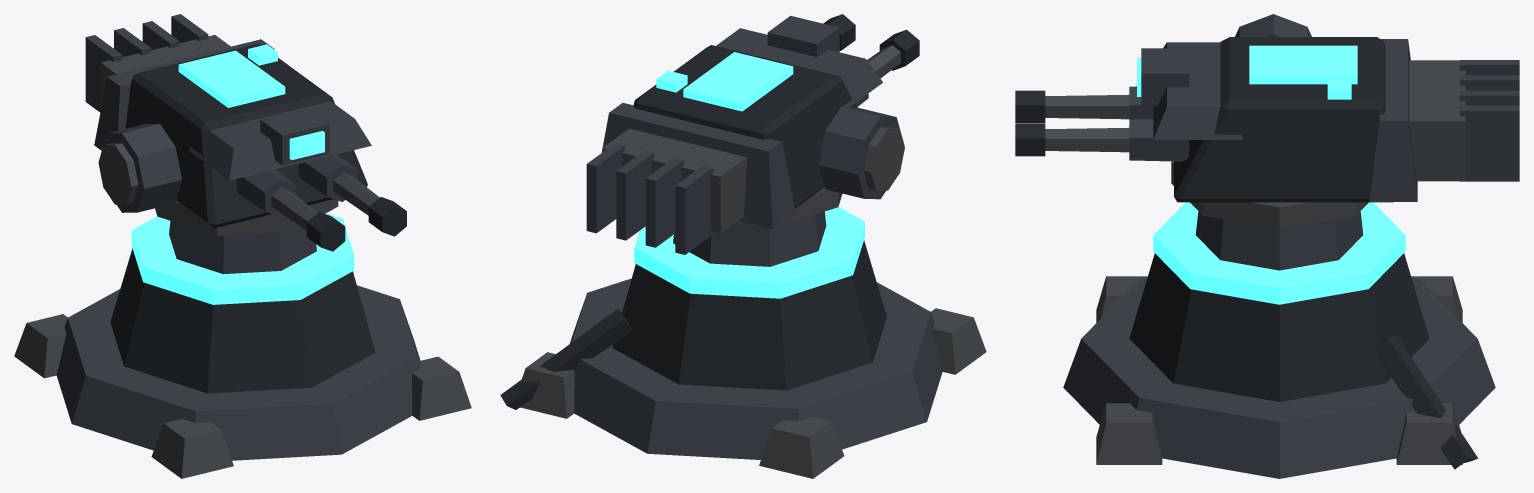
Rendered from device_turret.glb.
3 renders of one model, left to right at view 1: azimuth 30°, elevation 25°; view 2: azimuth 150°, elevation 25°; view 3: azimuth 270°, elevation 25°, orthographic. The views are drawn at different scales.
Visible parts, largest first — view 1: base, head; view 2: base, head; view 3: base, head.
Boxes of the visible parts, x1,y1,x2,y2 form: base: [14, 213, 471, 478]; head: [85, 14, 406, 251]; base: [500, 207, 986, 478]; head: [586, 14, 919, 254]; base: [1063, 202, 1495, 478]; head: [1015, 14, 1519, 228].
Size of the model in its own units: 1.44 by 1.2 by 1.68.
